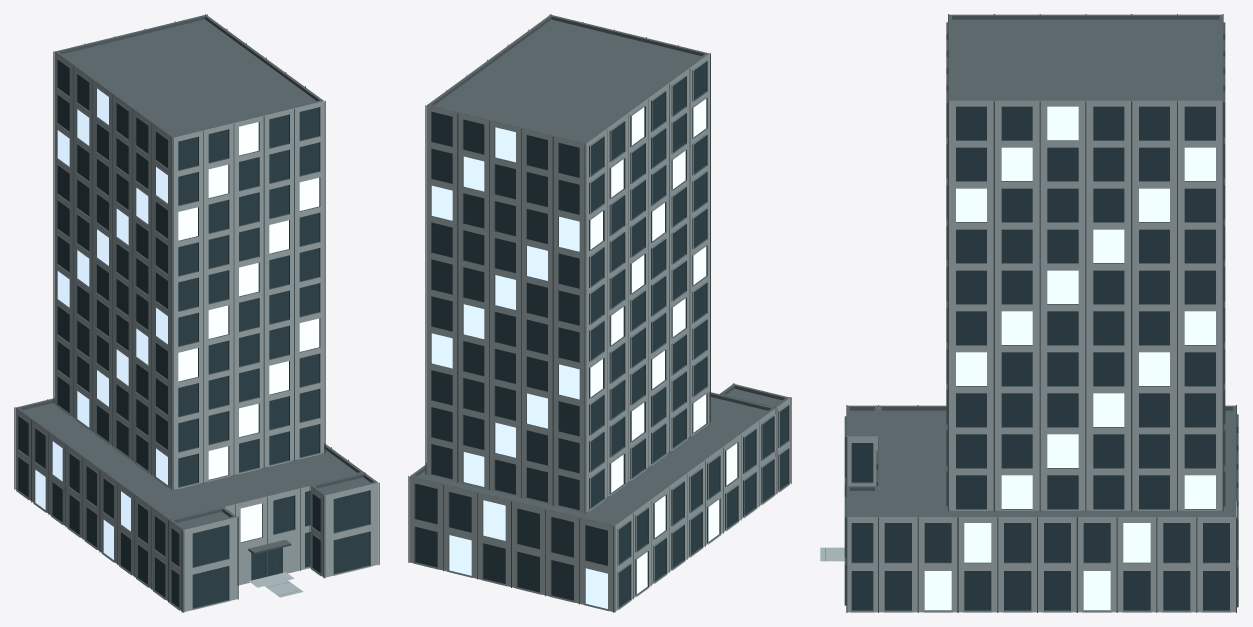
The model's file is city-block-office.glb.
3 views of the same model, side by side, from view 1: azimuth 30°, elevation 25°; view 2: azimuth 150°, elevation 25°; view 3: azimuth 270°, elevation 25° (orthographic). The views are drawn at different scales.
Visible parts, largest first — view 1: office_lod0; view 2: office_lod0; view 3: office_lod0.
Boxes of the visible parts, box(x1,y1,x2,y2) form: office_lod0: box(14, 14, 379, 612); office_lod0: box(408, 14, 791, 612); office_lod0: box(820, 14, 1238, 612).
Size of what is drawn, in the model's own units: 20.17 by 42.22 by 31.65.
Materials: 5 (1 with a texture image).
